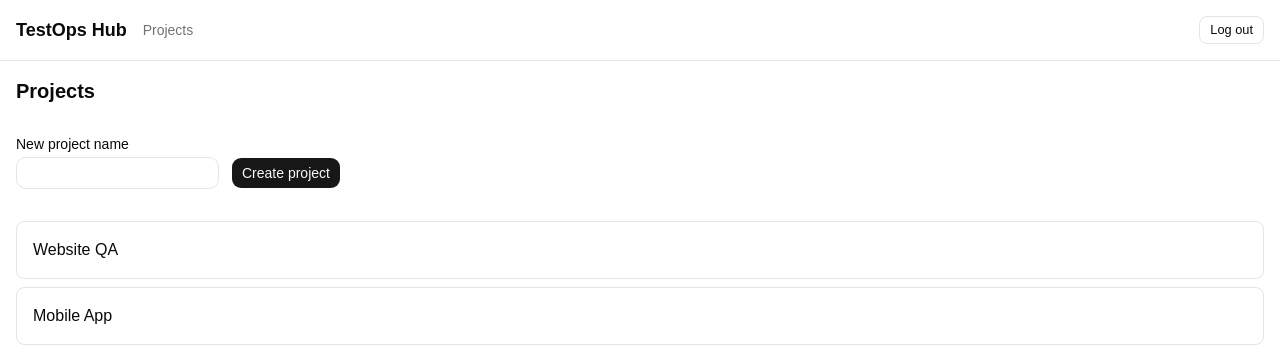
Test: projects list › clicking a project navigates to its dashboard route
Click the link "Website QA": click(76, 250) [16,221,1264,279]
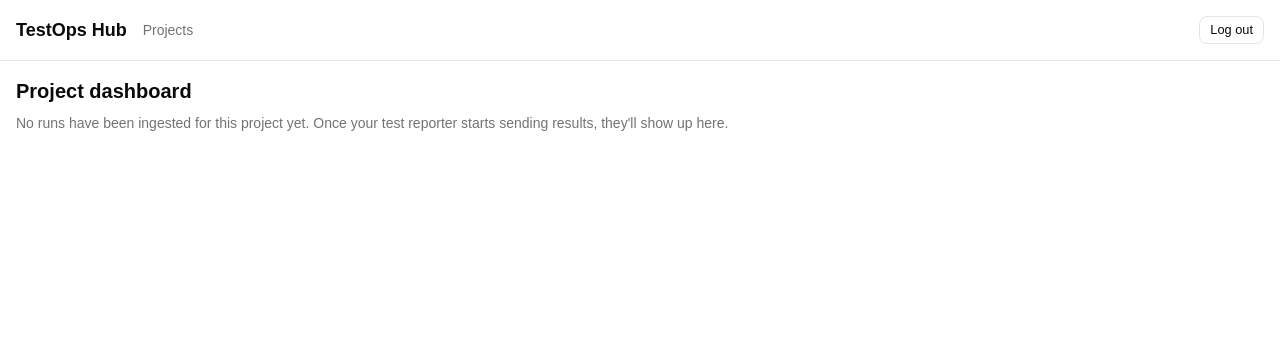
expect the heading "Project dashboard" is shown: met, box [16,80,192,102]
